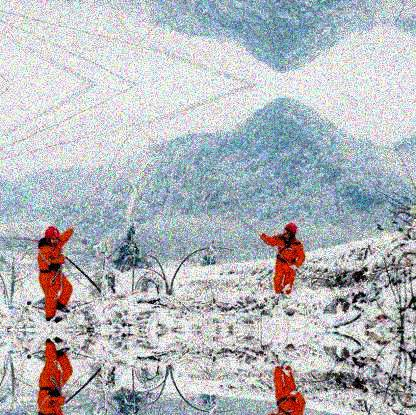helmet: (44, 226, 61, 245), (283, 222, 298, 239)
